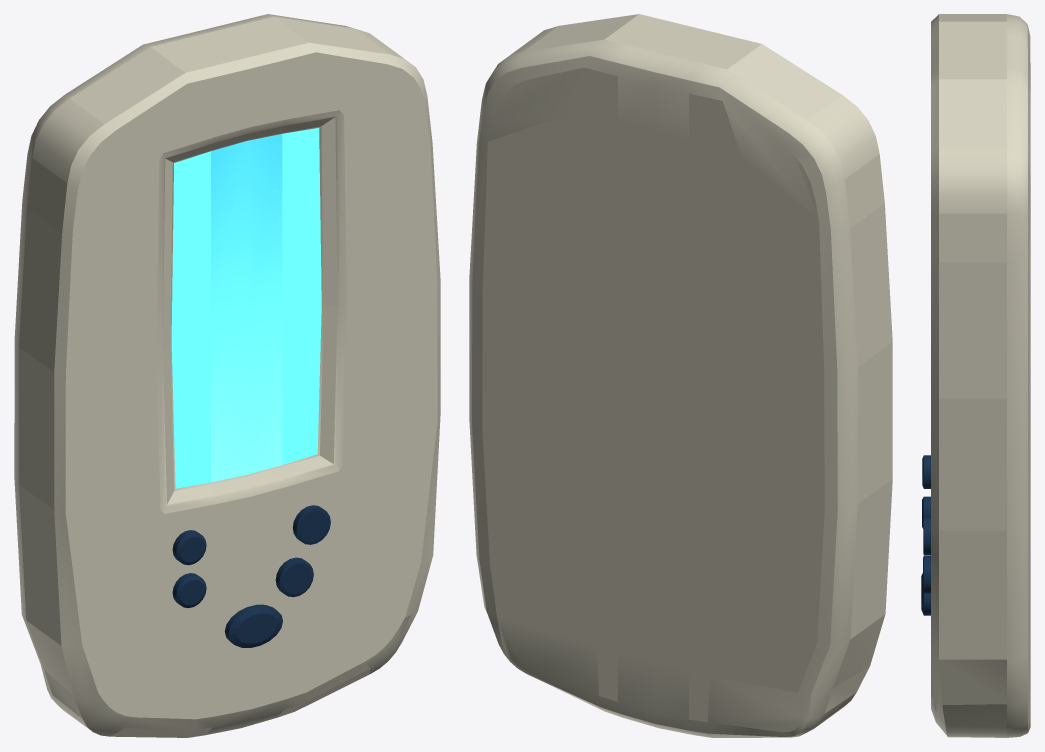
File: Bp Machine 2.FBX
3 renders of one model, left to right at view 1: azimuth 30°, elevation 25°; view 2: azimuth 150°, elevation 25°; view 3: azimuth 270°, elevation 25°, orthographic. The views are drawn at different scales.
Parts seen in each view (by area): view 1: BPMachine, Power_btn, C_Btn, Read_btn, Mode_btn, mmHg_btn; view 2: BPMachine; view 3: BPMachine, C_Btn, Read_btn, mmHg_btn, Power_btn, Mode_btn.
Part boxes in pixels (bbox=[...]): BPMachine: bbox=[14, 14, 440, 737]; Power_btn: bbox=[224, 604, 282, 647]; C_Btn: bbox=[292, 505, 330, 544]; Read_btn: bbox=[275, 557, 313, 597]; Mode_btn: bbox=[172, 573, 206, 608]; mmHg_btn: bbox=[172, 530, 206, 565]; BPMachine: bbox=[469, 14, 892, 737]; BPMachine: bbox=[931, 14, 1030, 737]; C_Btn: bbox=[923, 517, 930, 555]; Read_btn: bbox=[923, 555, 930, 593]; mmHg_btn: bbox=[922, 455, 930, 488]; Power_btn: bbox=[921, 573, 930, 615]; Mode_btn: bbox=[922, 496, 930, 528].
Size of the model in its own units: 149 by 248 by 37.89.
